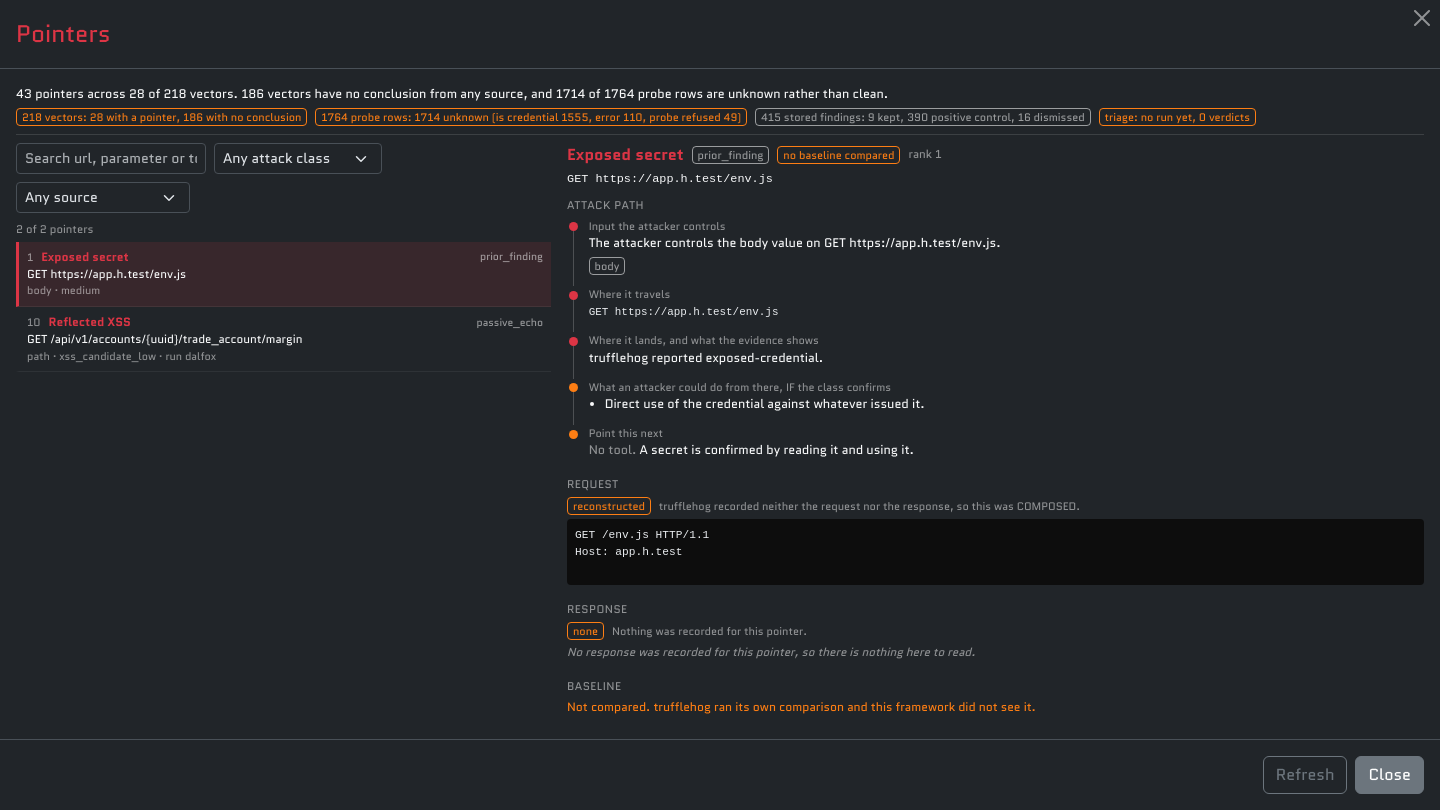
the marker is highlighted in the request and in the response
What coordinates should you click on to do the following:
click the element that starts with "Reflected XSS"
I would click on:
 (284, 340)
Its box is [16,307,551,372].
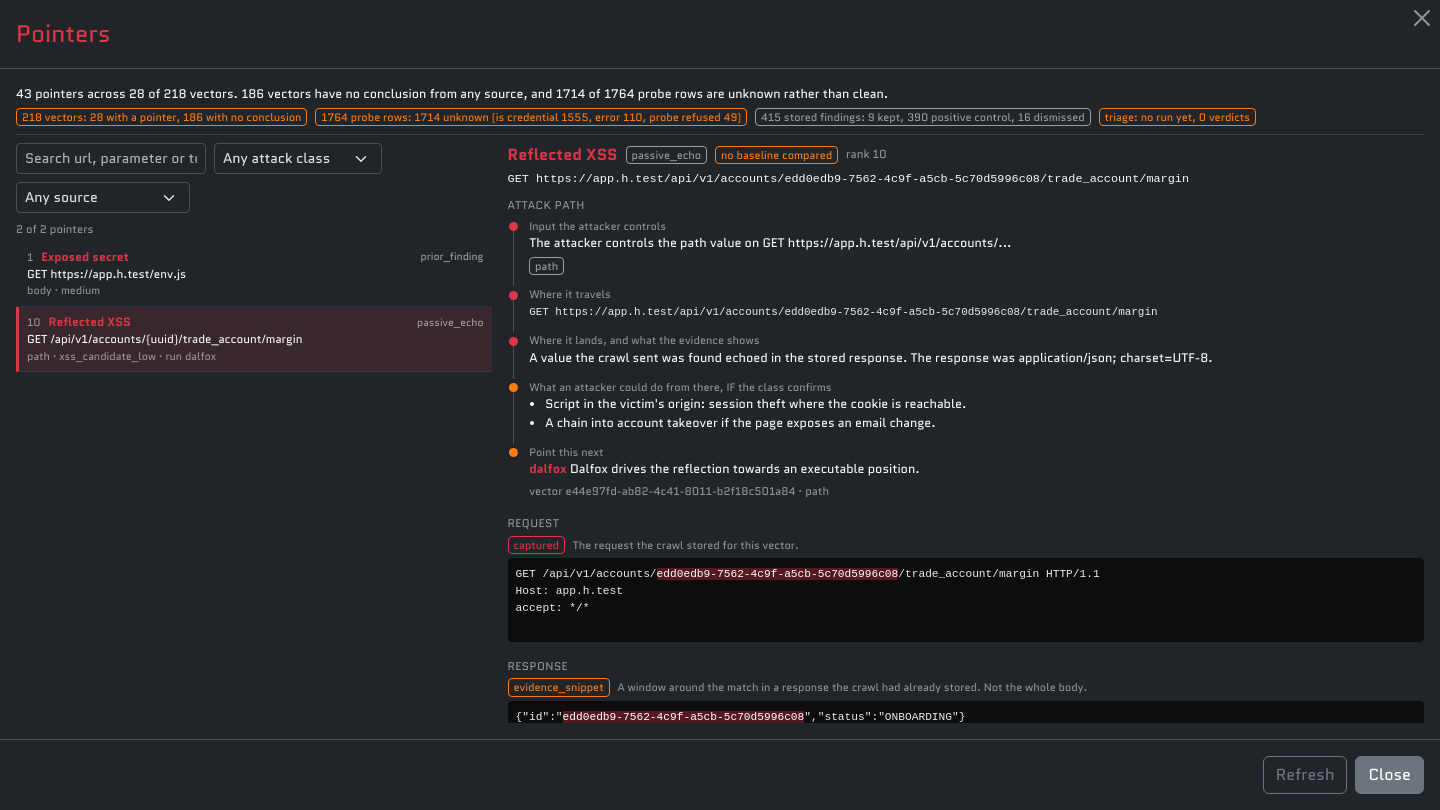
expect the element that starts with "GET /api/v1/accounts/" shows "Host: app.h.test": met, box [516,568,1100,614]
